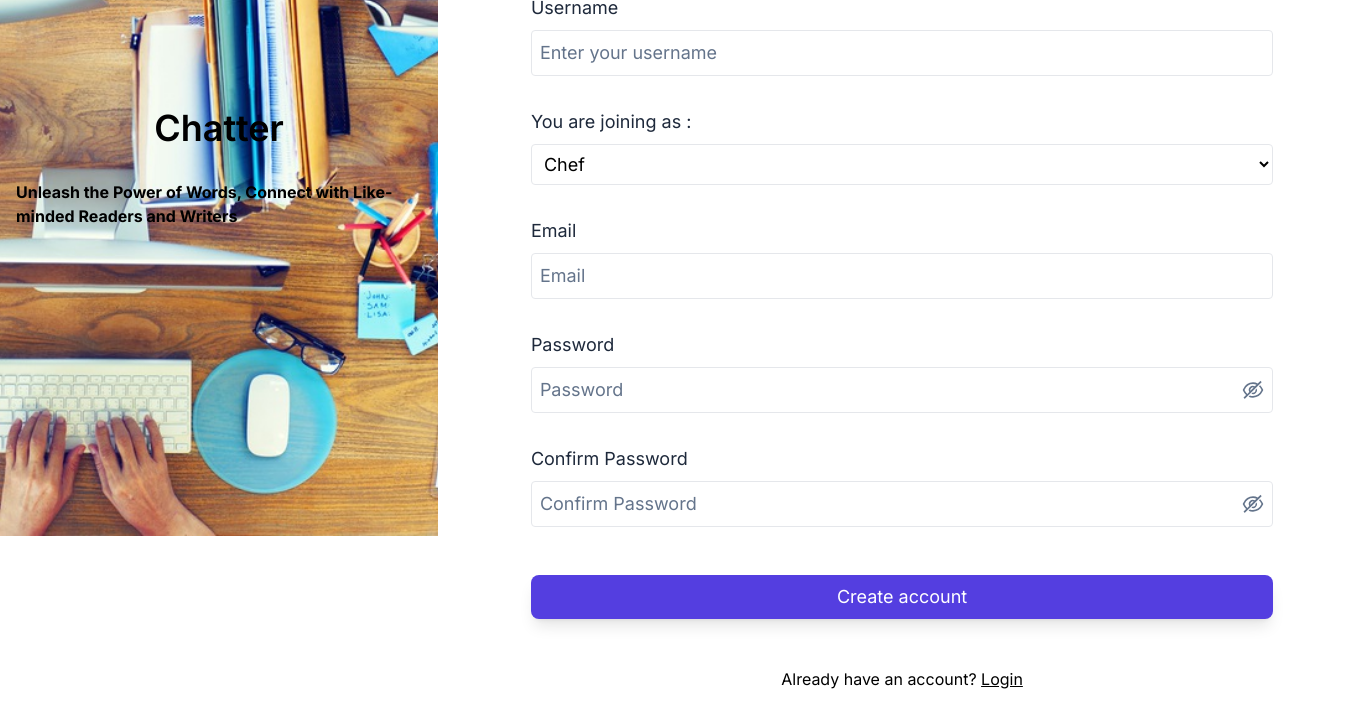
Sign Up Page › signup functionality › ensure all fields are not empty
(page scrolled)
Click the button "Create account" at (902, 597), box [531, 575, 1273, 619]
(page scrolled)
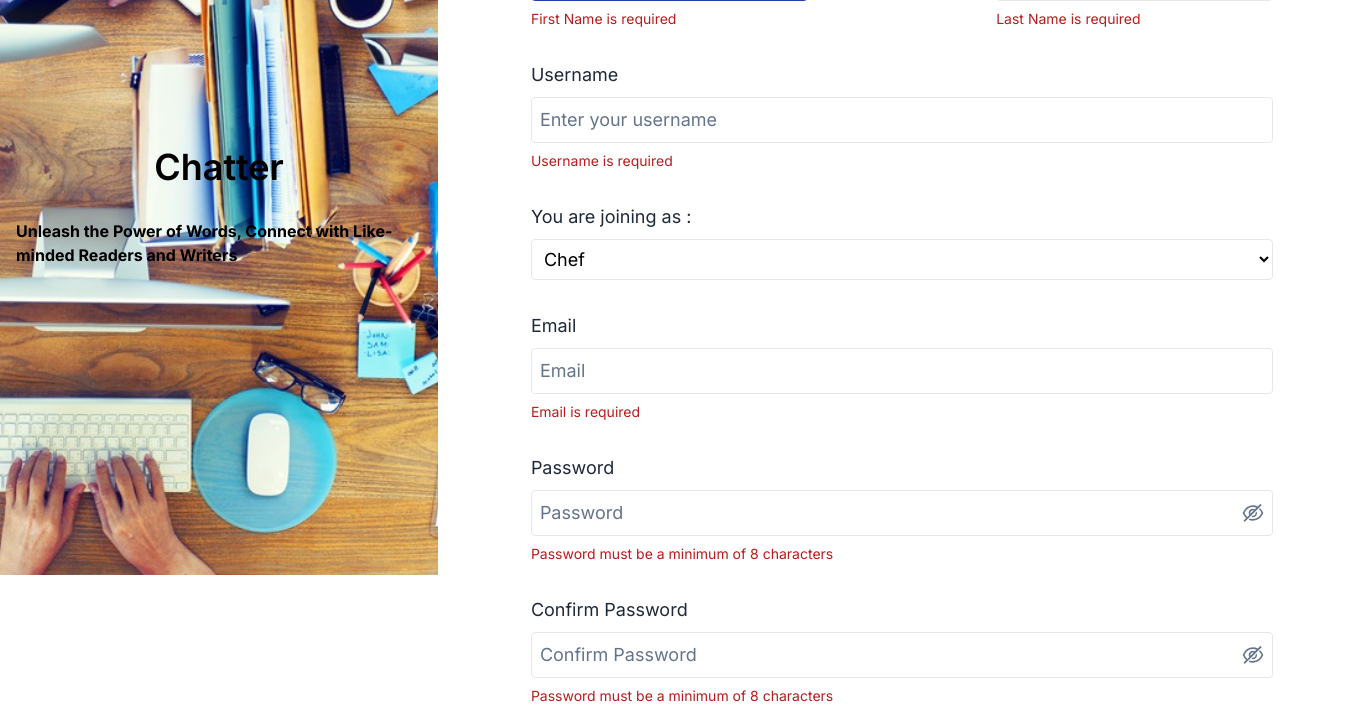
Now the message "First Name is required" is shown, box [531, 10, 676, 27]
